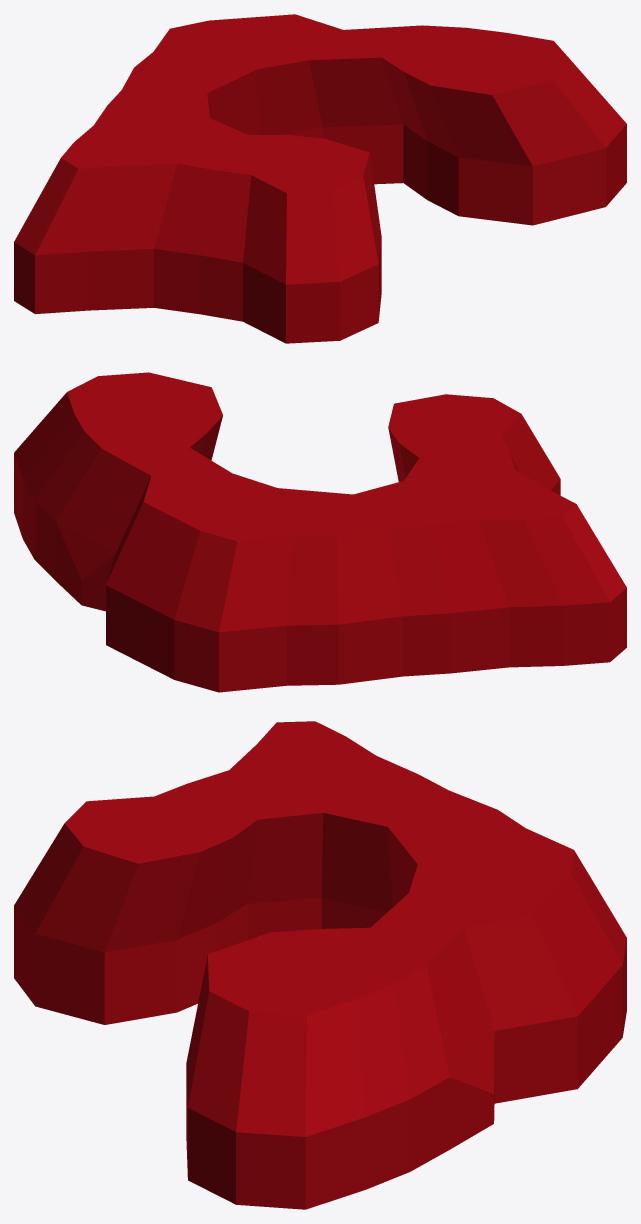
File: RedObject1.fbx
The picture shows the model from 3 angles, top to bottom: view 1: azimuth 30°, elevation 25°; view 2: azimuth 150°, elevation 25°; view 3: azimuth 270°, elevation 25°; orthographic projection. The views are drawn at different scales.
Visible parts, largest first — view 1: RedObject1; view 2: RedObject1; view 3: RedObject1.
Part boxes in pixels (x1,y1,x2,y2): RedObject1: [14, 14, 626, 343]; RedObject1: [14, 372, 626, 692]; RedObject1: [14, 721, 626, 1209].
Size of the model in its own units: 8.2 by 1.75 by 6.
